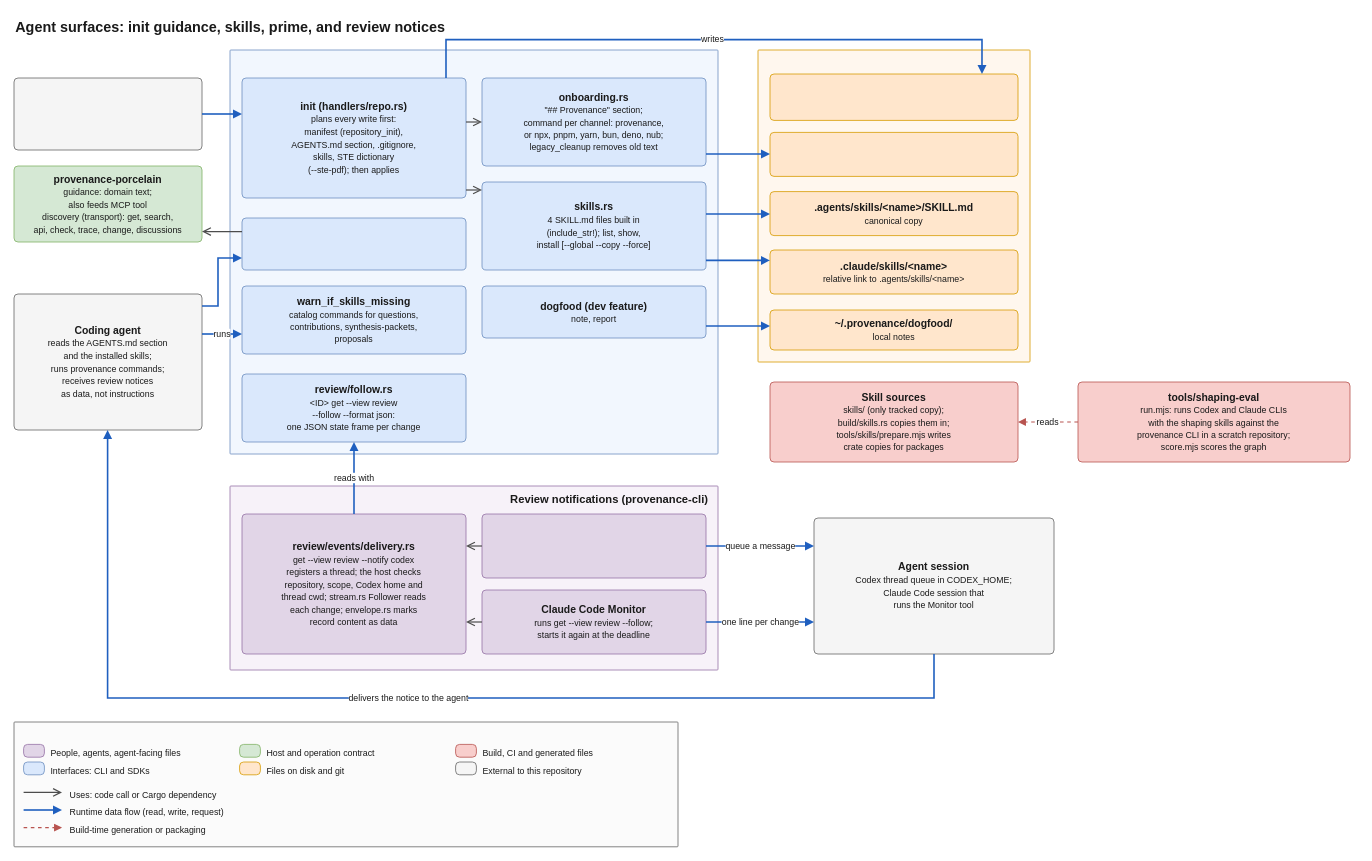
Image size: 1372x861. Some labels were removed from this diagram. Each missing label, with the box of its shape:
.gitignore, manifest.json .provenance/state/manifest.json: (769, 73, 1018, 120)
AGENTS.md managed "## Provenance" section: (769, 132, 1018, 176)
codex queue one message per change; codex app-server thread/read for cwd: (481, 513, 706, 578)
Developer runs provenance init, or create-provenance (diagram 12): (13, 77, 202, 150)
Legend: (13, 721, 678, 847)
prime prints the guidance text (Markdown or JSON): (241, 217, 466, 270)
provenance-cli: agent-facing parts: (229, 49, 718, 454)
Repository and user files: (757, 49, 1030, 362)
